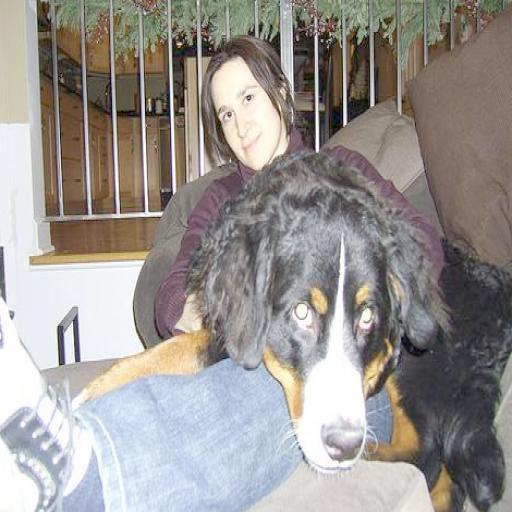dog_face: (223, 168, 402, 465)
